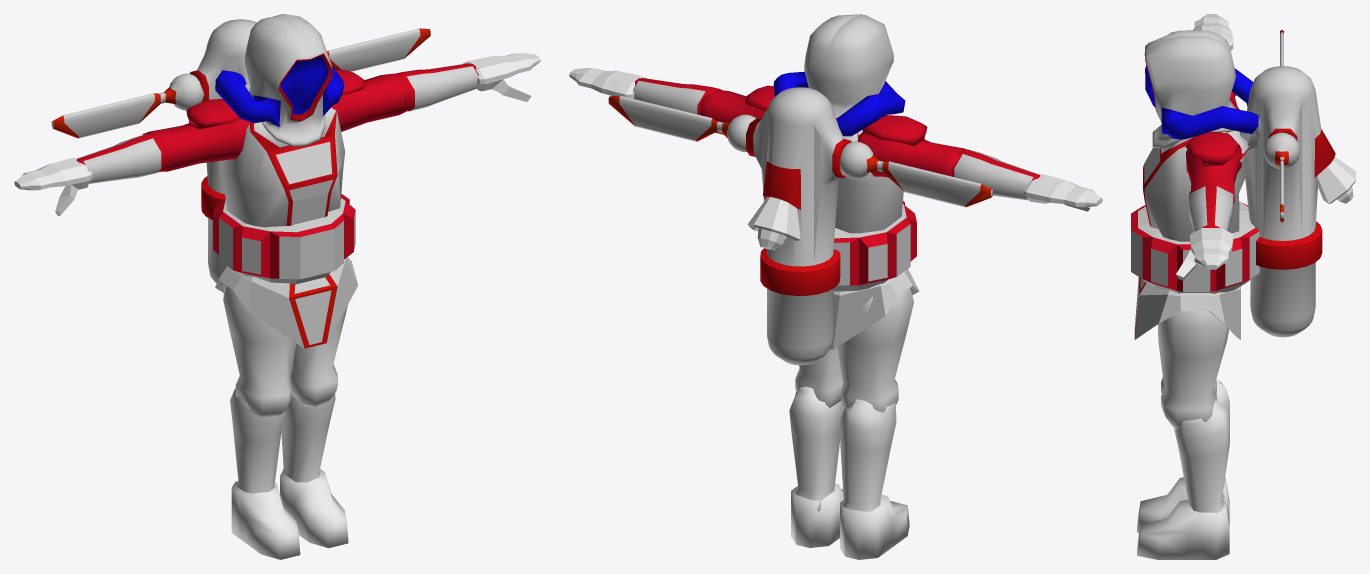
Rendered from Suit_Draft1.fbx.
3 renders of one model, left to right at view 1: azimuth 30°, elevation 25°; view 2: azimuth 150°, elevation 25°; view 3: azimuth 270°, elevation 25°, orthographic. The views are drawn at different scales.
Parts seen in each view (by area): view 1: Helmet, Chest, Waist, Hips, RThigh, RUpperArm, TankUnit, RBoot, WingStbd, RCalf, LBoot, LCalf (+7 smaller); view 2: TankUnit, Helmet, RThigh, RCalf, LCalf, Waist, WingStbd, RUpperArm, Chest, WingPort, RBoot, Hips (+8 smaller); view 3: TankUnit, Helmet, LThigh, Waist, Chest, LCalf, LBoot, Hips, LUpperArm, LHand, LForearm, RBoot (+4 smaller).
Part boxes in pixels (x1=…): Helmet: x1=215, y1=14, x2=344, y2=146; Chest: x1=220, y1=107, x2=345, y2=227; Waist: x1=213, y1=193, x2=355, y2=284; Hips: x1=215, y1=257, x2=358, y2=348; RThigh: x1=223, y1=285, x2=296, y2=418; RUpperArm: x1=142, y1=99, x2=250, y2=171; TankUnit: x1=189, y1=19, x2=256, y2=283; RBoot: x1=231, y1=481, x2=300, y2=559; WingStbd: x1=51, y1=73, x2=204, y2=138; RCalf: x1=230, y1=388, x2=285, y2=493; LBoot: x1=280, y1=469, x2=348, y2=548; LCalf: x1=281, y1=393, x2=335, y2=482; TankUnit: x1=746, y1=87, x2=851, y2=365; Helmet: x1=773, y1=14, x2=905, y2=136; RThigh: x1=837, y1=288, x2=913, y2=412; RCalf: x1=840, y1=399, x2=896, y2=516; LCalf: x1=789, y1=386, x2=844, y2=511; Waist: x1=833, y1=201, x2=916, y2=291; WingStbd: x1=839, y1=141, x2=992, y2=207; RUpperArm: x1=857, y1=115, x2=966, y2=177; Chest: x1=835, y1=130, x2=903, y2=233; WingPort: x1=608, y1=95, x2=756, y2=152; RBoot: x1=840, y1=495, x2=909, y2=559; Hips: x1=830, y1=269, x2=919, y2=349; TankUnit: x1=1239, y1=66, x2=1335, y2=337; Helmet: x1=1144, y1=30, x2=1261, y2=150; LThigh: x1=1158, y1=311, x2=1228, y2=429; Waist: x1=1131, y1=201, x2=1259, y2=293; Chest: x1=1143, y1=130, x2=1249, y2=241; LCalf: x1=1174, y1=400, x2=1229, y2=512; LBoot: x1=1137, y1=499, x2=1229, y2=559; Hips: x1=1134, y1=277, x2=1240, y2=339; LUpperArm: x1=1185, y1=132, x2=1241, y2=204; LHand: x1=1176, y1=228, x2=1233, y2=280; LForearm: x1=1189, y1=184, x2=1233, y2=231; RBoot: x1=1137, y1=477, x2=1229, y2=532.
Size of the model in its own units: 197 by 184 by 74.52.
